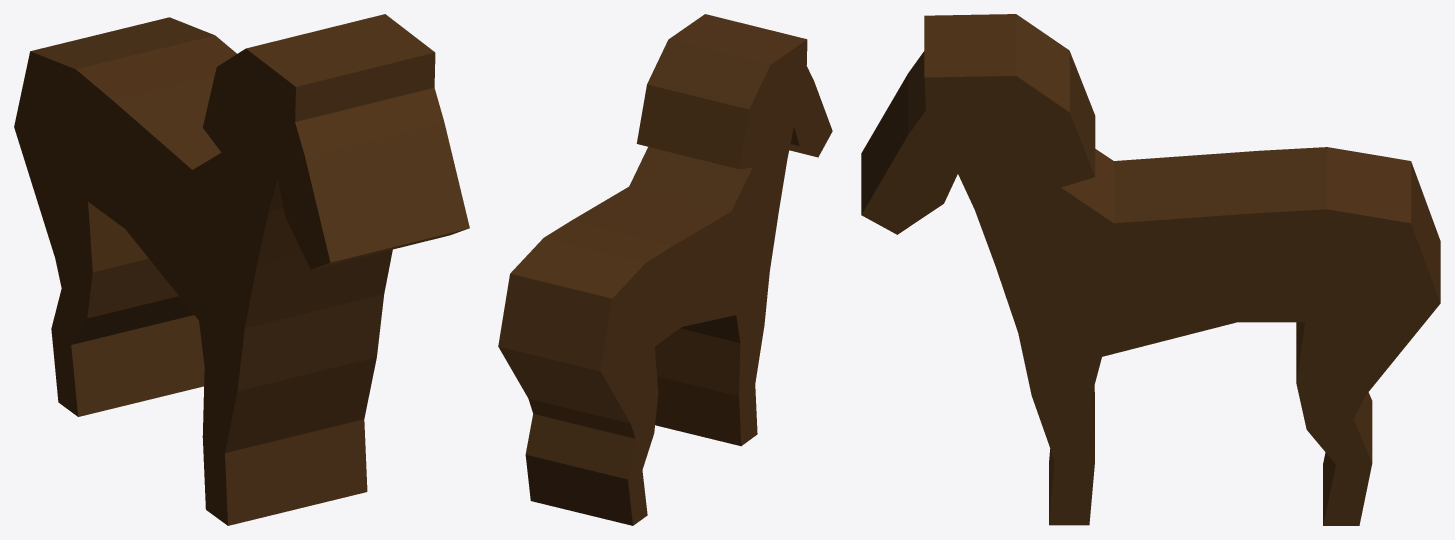
Rendered from horse.gltf.
3 views of the same model, side by side, from view 1: azimuth 30°, elevation 25°; view 2: azimuth 150°, elevation 25°; view 3: azimuth 270°, elevation 25° (orthographic). The views are drawn at different scales.
Parts seen in each view (by area): view 1: Cube; view 2: Cube; view 3: Cube.
Part boxes in pixels (x1,y1,x2,y2): Cube: (14,14,469,525); Cube: (498,14,832,525); Cube: (861,14,1440,525).
Bounding box in the file's own units: 2 × 6.74 × 7.86.
